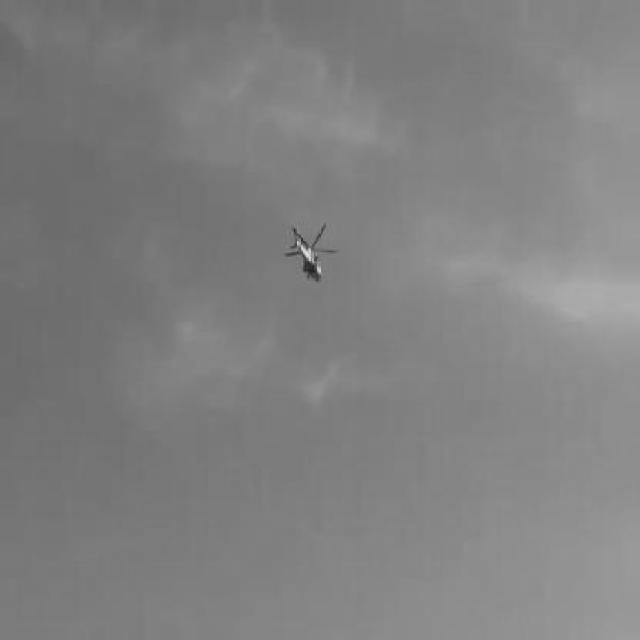helikopter: (279, 222, 333, 286)
